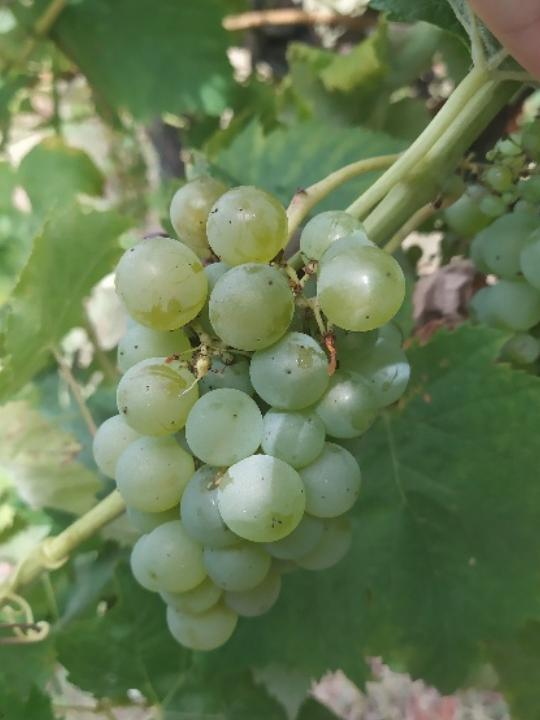grape: (88, 174, 414, 656)
